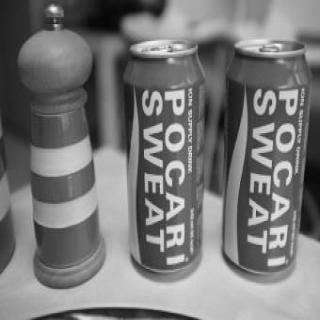alumunium_can: (229, 30, 301, 286), (127, 42, 203, 279)
